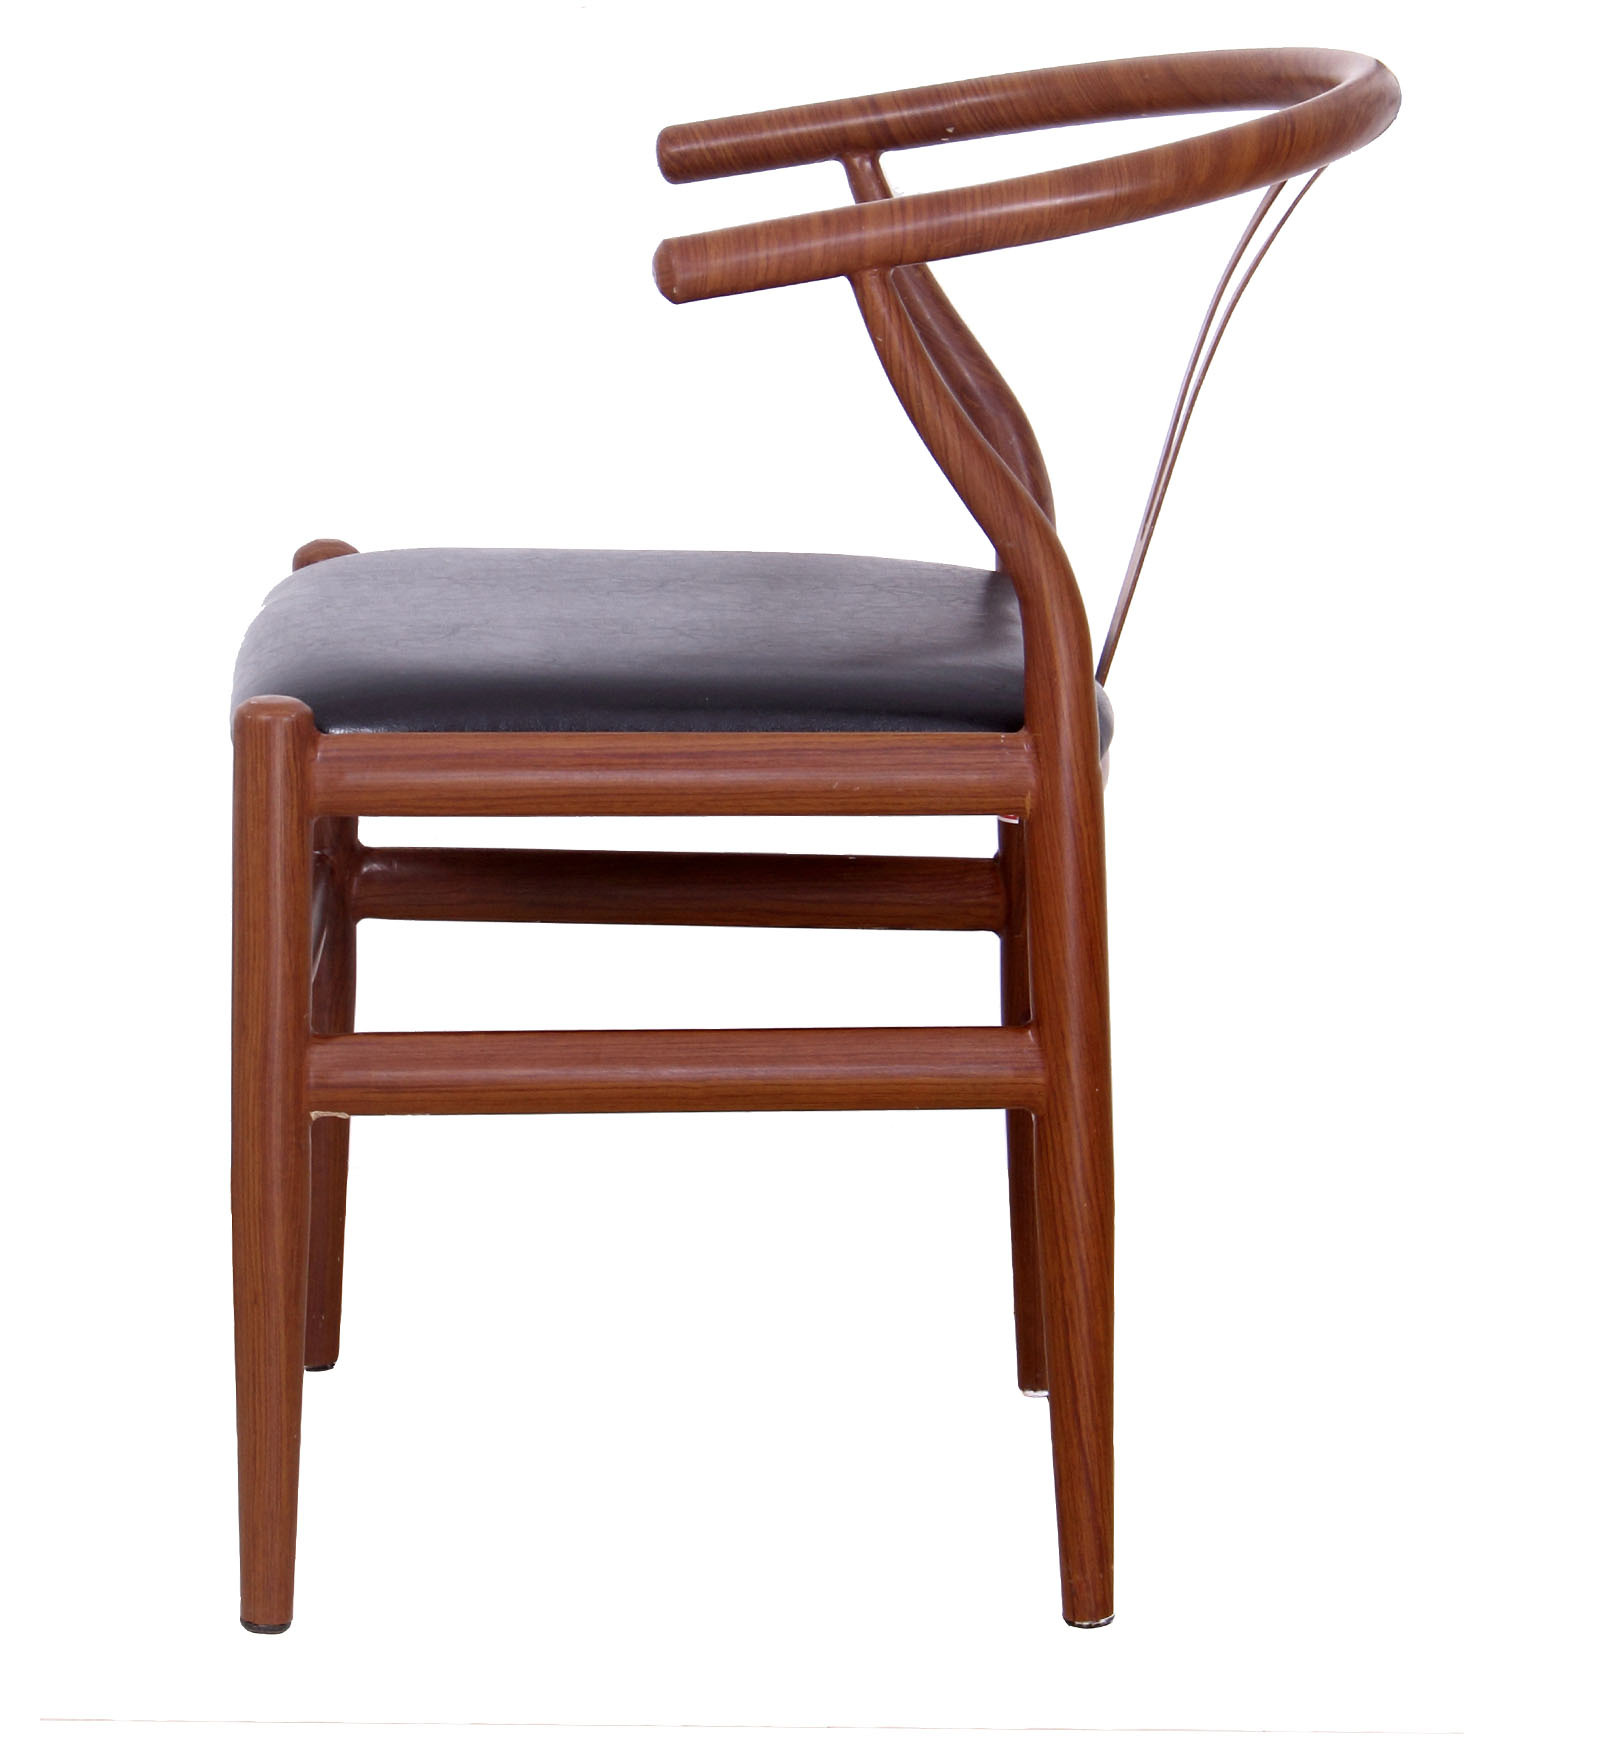Palo Metal Chair (Set of 2) in Walnut Finish by Bohemiana: (101, 37, 1473, 1663)
